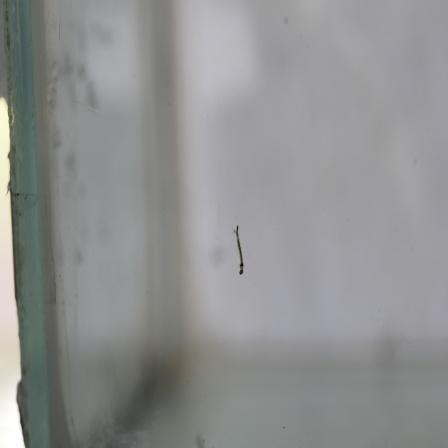Jentik-Nyamuk: (230, 220, 248, 282)
